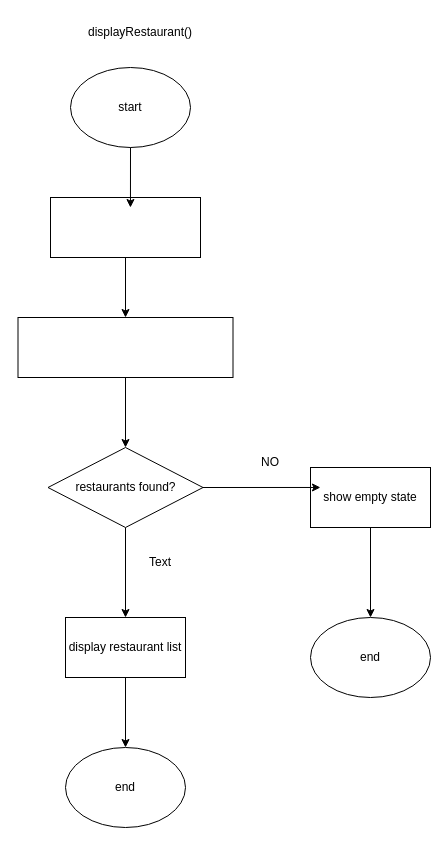
This 448x845 diagram has some shape labels left out. Each missing label, with the centre of its shape:
get user saved location: the point at 125,227
query all restaurants from DB: the point at 125,347
